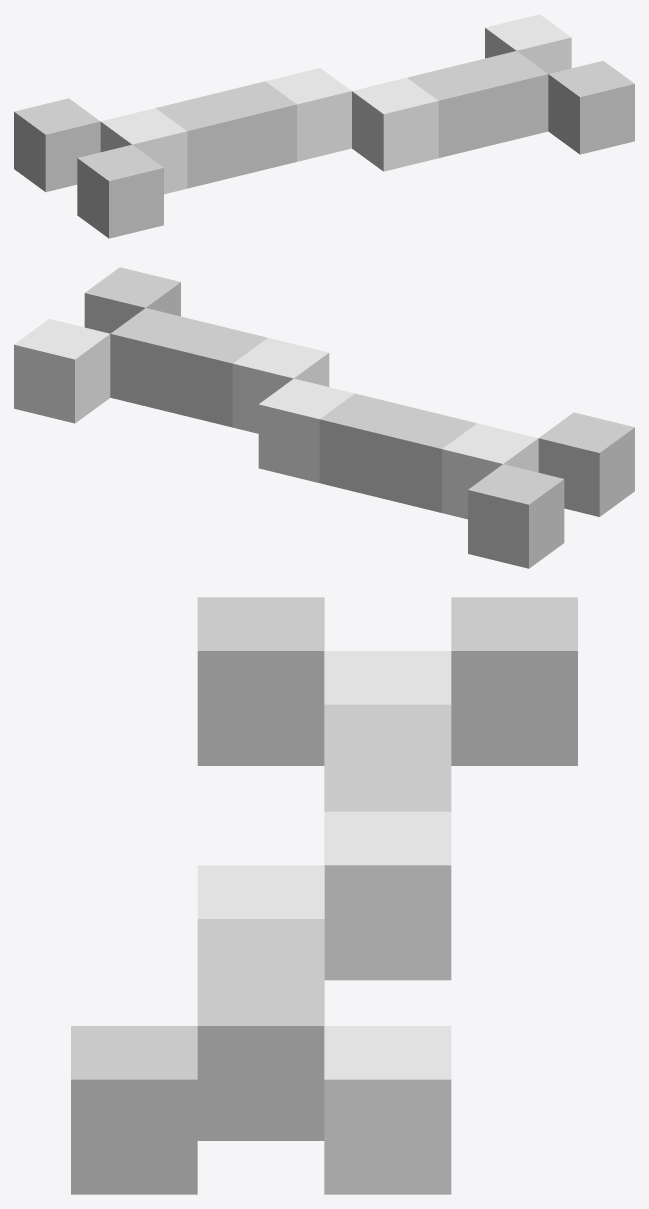
File: Bone.obj
3 views of the same model, one above another, from view 1: azimuth 30°, elevation 25°; view 2: azimuth 150°, elevation 25°; view 3: azimuth 270°, elevation 25° (orthographic). The views are drawn at different scales.
Size of the model in its own units: 0.9 by 0.1 by 0.4.
Materials: 1 (1 with a texture image).
